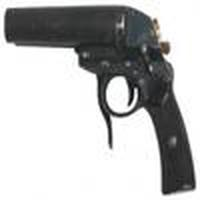gun: (6, 7, 194, 198)
